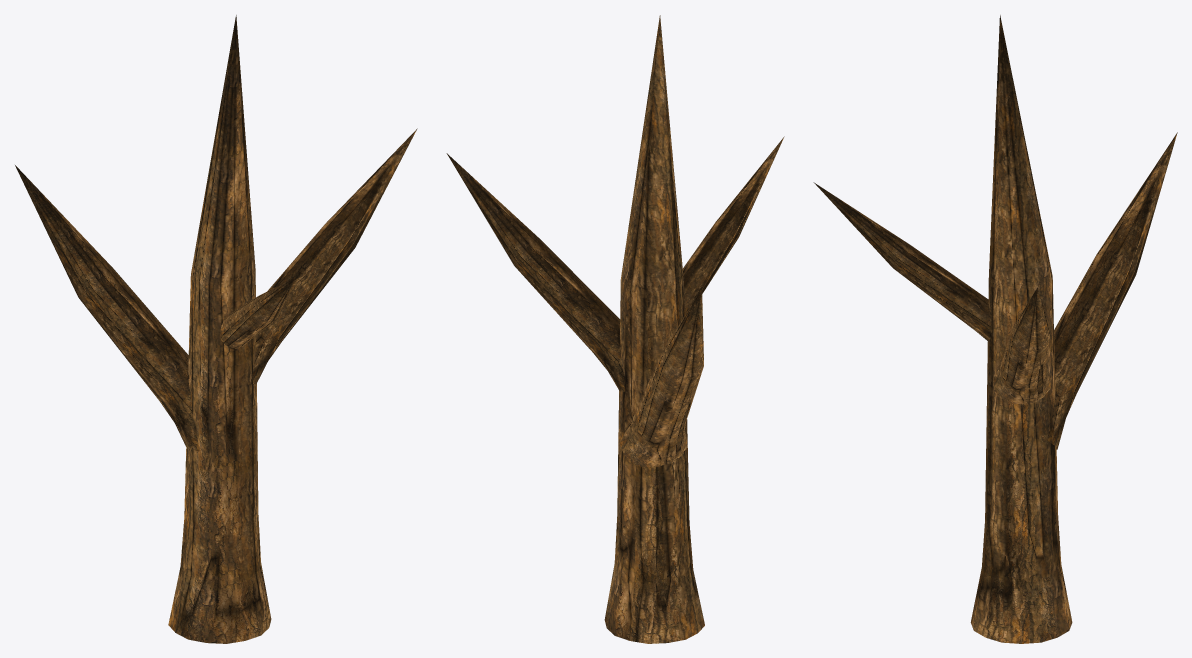
Rendered from OAK_trunk.glb.
The picture shows the model from 3 angles, left to right: view 1: azimuth 30°, elevation 25°; view 2: azimuth 150°, elevation 25°; view 3: azimuth 270°, elevation 25°; orthographic projection. The views are drawn at different scales.
Parts seen in each view (by area): view 1: Trunk.001, branch, branch.002, branch.001; view 2: Trunk.001, branch.002, branch, branch.001; view 3: Trunk.001, branch, branch.001, branch.002.
Part boxes in pixels (<box>): Trunk.001: <box>168,15,271,643</box>; branch: <box>15,165,198,450</box>; branch.002: <box>253,128,417,384</box>; branch.001: <box>220,277,295,348</box>; Trunk.001: <box>604,15,704,643</box>; branch.002: <box>446,153,624,391</box>; branch: <box>618,288,703,467</box>; branch.001: <box>682,136,784,315</box>; Trunk.001: <box>970,15,1072,643</box>; branch: <box>1041,132,1177,449</box>; branch.001: <box>813,182,991,341</box>; branch.002: <box>994,287,1050,404</box>.
Bounding box in the file's own units: 0.0522 × 0.0921 × 0.0498.
Materials: 1 (1 with a texture image).
